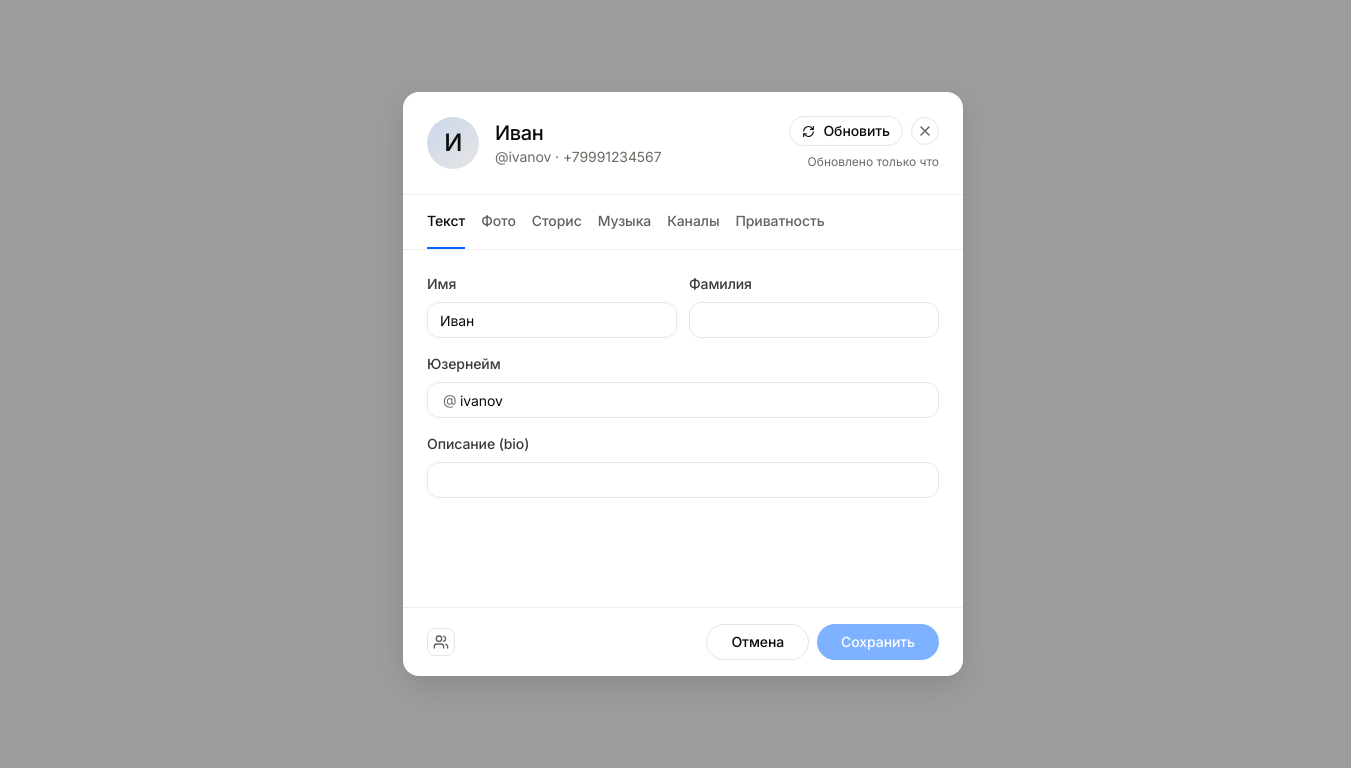
the refresh button force-re-pulls the live profile and updates the header
Expected: the heading "Иван" is shown, [495,121,544,145]
Click the button "Обновить".
click(846, 131)  # box [789,116,903,146]
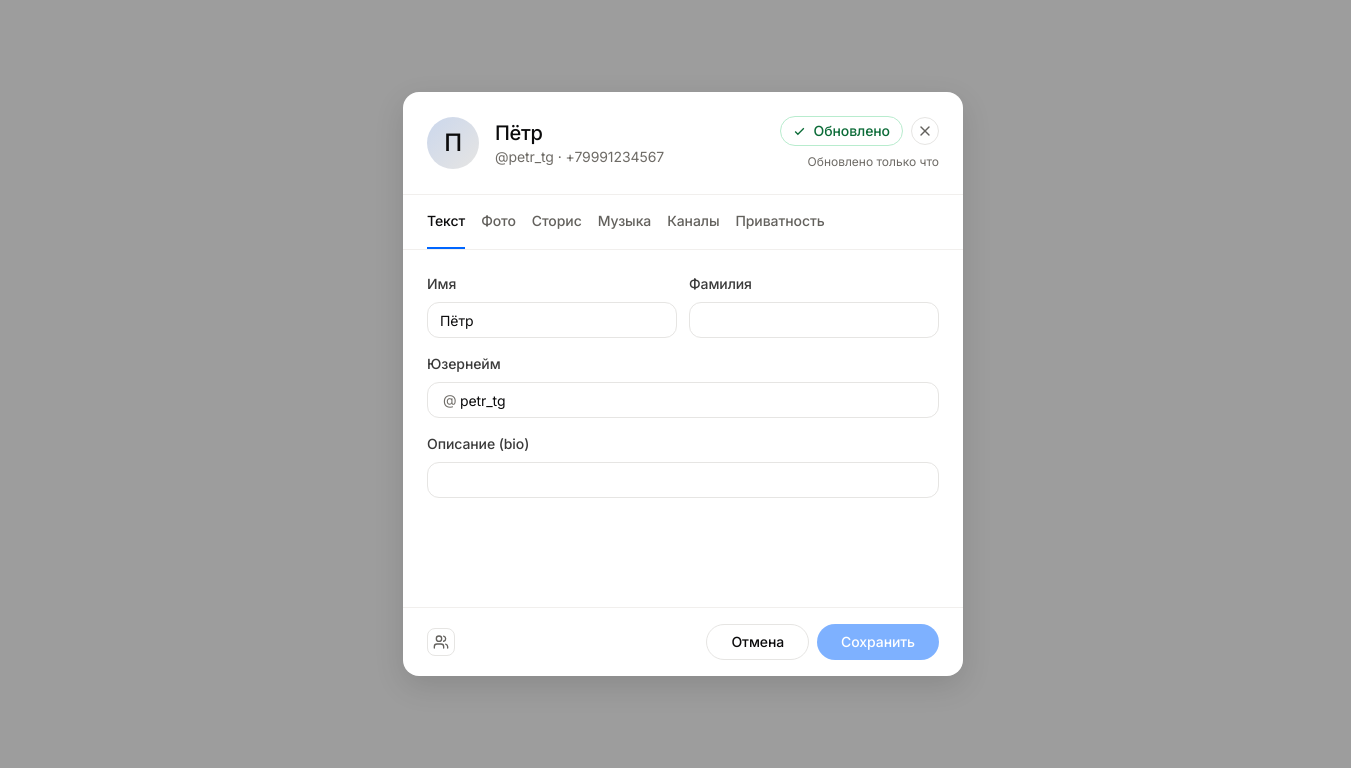
Expected: the heading "Пётр" is shown, [495,121,542,145]
